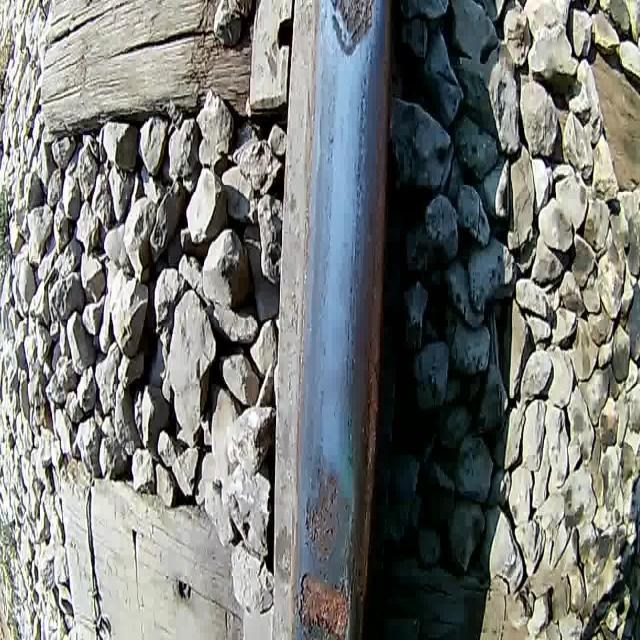Cracks: (343, 533, 358, 640)
Spallings: (294, 569, 352, 640), (301, 461, 339, 548)
Squats: (290, 439, 358, 640), (318, 0, 382, 61)
